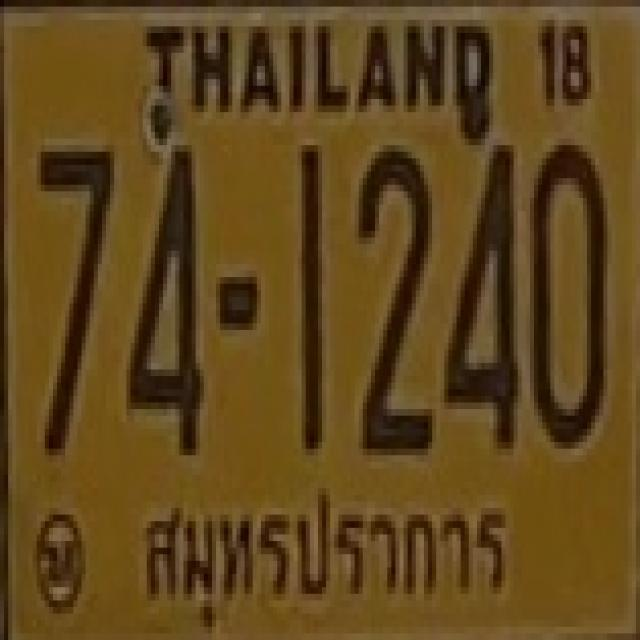0: (530, 139, 603, 442)
1: (296, 145, 320, 449)
2: (357, 145, 430, 449)
4: (122, 138, 200, 448), (440, 142, 518, 445)
7: (37, 145, 110, 449), (37, 142, 110, 359)
SPK: (128, 476, 519, 634)
